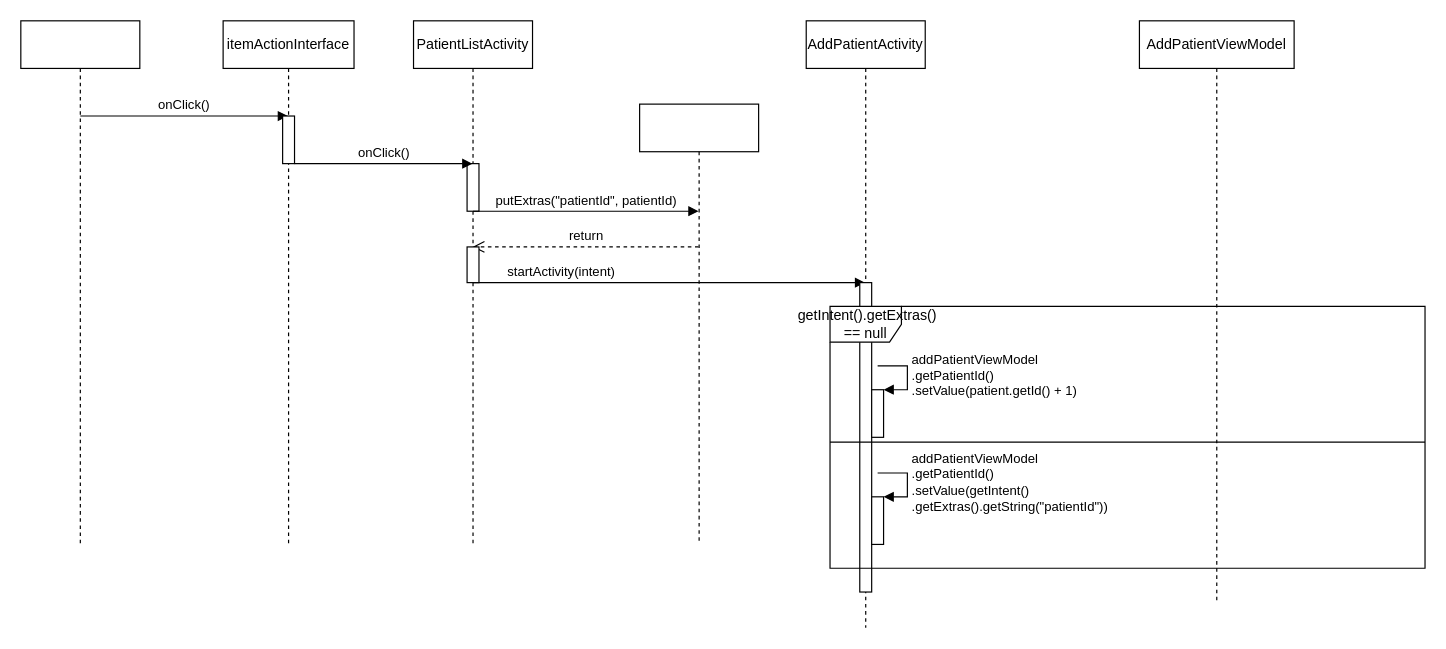
This 1446x649 diagram has some shape labels left out. Here are the shapes that lost their labels. From the top down, the box of each, then its label:
(20, 20, 140, 544): PatientListAdapter
(638, 103, 759, 544): Intent
